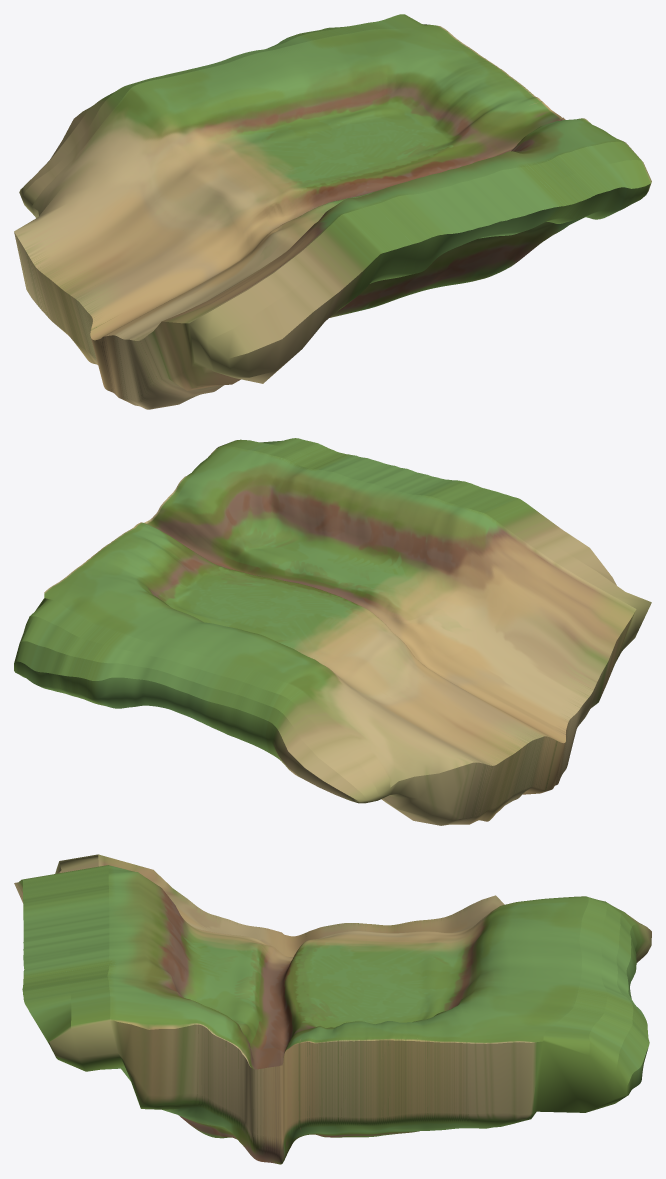
The model's file is LandScape_SelectMap.fbx.
The picture shows the model from 3 angles, top to bottom: view 1: azimuth 30°, elevation 25°; view 2: azimuth 150°, elevation 25°; view 3: azimuth 270°, elevation 25°; orthographic projection. The views are drawn at different scales.
Visible parts, largest first — view 1: Plane; view 2: Plane; view 3: Plane.
Part boxes in pixels (left/top/right/bottom): Plane: left=14, top=14, right=651, bottom=409; Plane: left=14, top=438, right=651, bottom=825; Plane: left=14, top=854, right=651, bottom=1164.
Size of the model in its own units: 56653 by 26102 by 59199.
